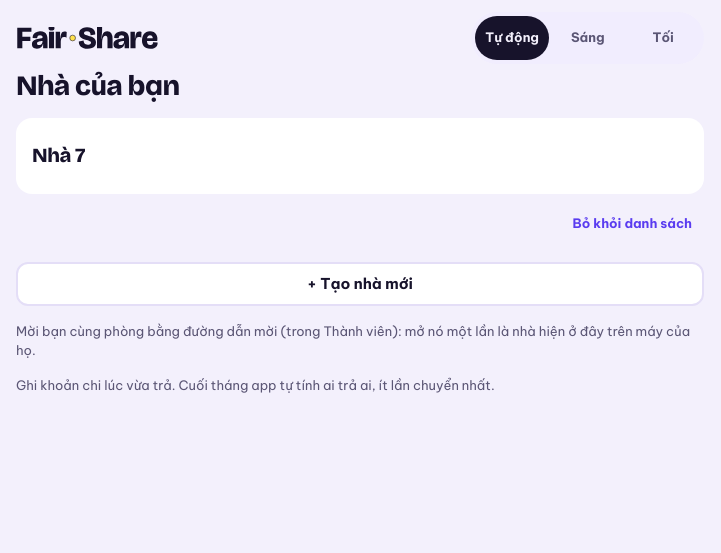
Test: a failed create says why in Vietnamese, not the server's English
The image size is (721, 553).
Click the heading "+ Tạo nhà mới".
click(360, 284)  # box [16,262,704,306]
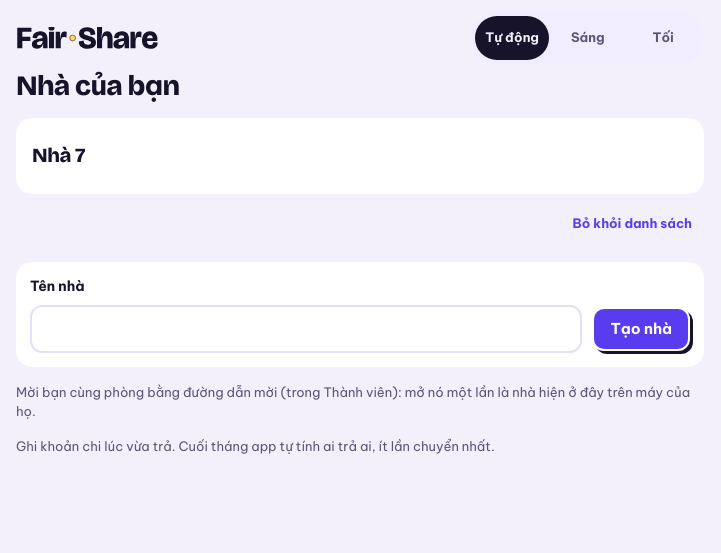
Type "Nhà 8" into the field labelled "Tên nhà".
click(306, 328); type("Nhà 8")  # box [30,304,582,352]
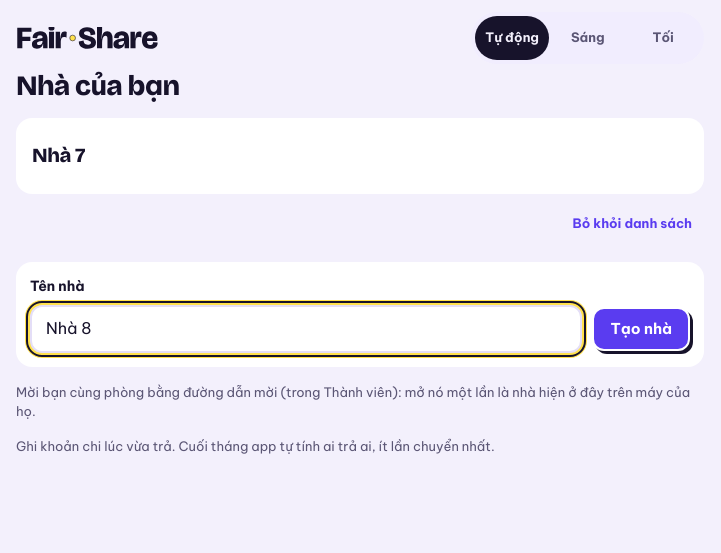
Click the button "Tạo nhà".
click(641, 328)  # box [592,306,690,350]
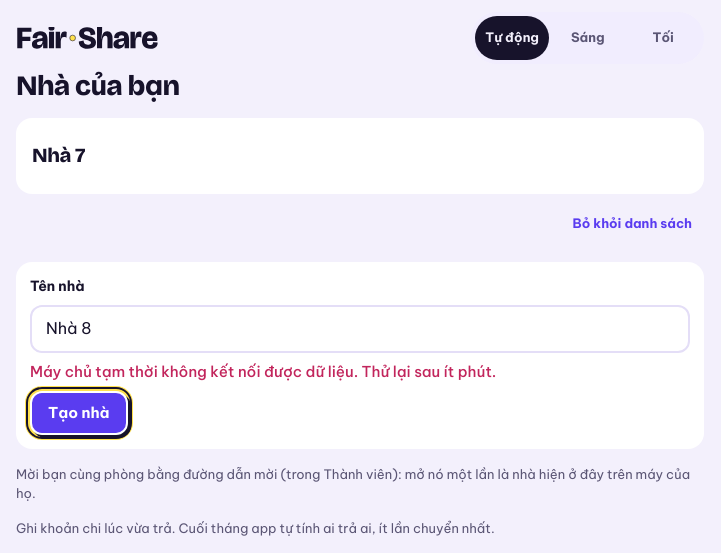
Expected: the text "Máy chủ tạm thời không kết nối được dữ liệu. Thử lại sau ít phút." is shown, [30,362,496,380]
